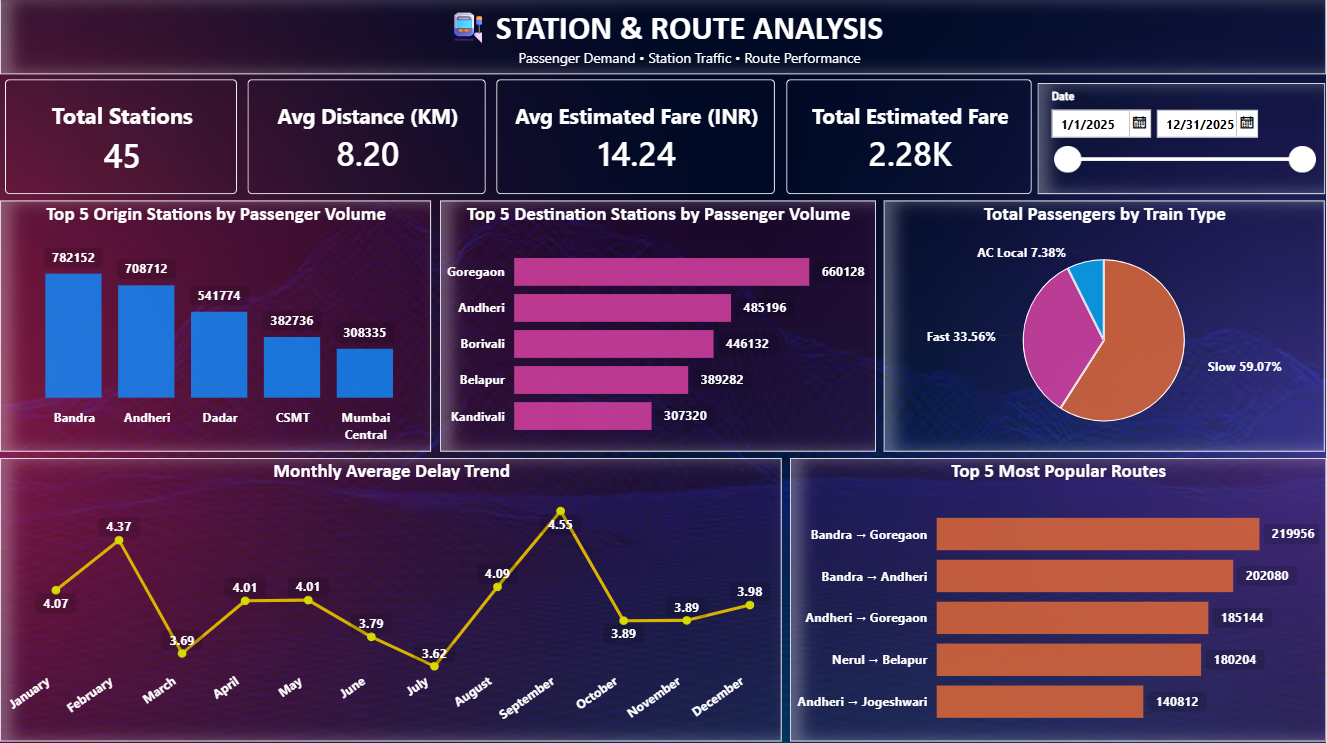

What the dashboard file says about the page in this screenshot:
{"tool":"powerbi","page":{"name":"Station & Route Analysis","canvas":[1280,720],"ordinal":1},"visuals":[{"type":"textbox","box":[0,0,1280.3,73.4],"z":0},{"type":"columnChart","title":"Top 5 Origin Stations by Passenger Volume","fields":{"Category":["Dim_Origin_Station.Origin_Station"],"Y":["fact train operations.Total Passengers"]},"box":[0,195.7,415.8,242.1],"z":1000},{"type":"barChart","title":"Top 5 Destination Stations by Passenger Volume","fields":{"Category":["Dim_Destination_Station.Destination_Station"],"Y":["fact train operations.Total Passengers"]},"box":[424.3,195.7,420.7,242.1],"z":2000},{"type":"barChart","title":"Top 5 Most Popular Routes","fields":{"Category":["fact train operations.Route"],"Y":["fact train operations.Total Passengers"]},"box":[763,443.9,517.3,273.9],"z":3000},{"type":"lineChart","title":"Monthly Average Delay Trend","fields":{"Category":["Dim_Date.Date.Variation.Date Hierarchy.Month"],"Y":["fact train operations.Avg Delay (min)"]},"box":[0,443.9,754.5,273.9],"z":4000},{"type":"pieChart","title":"Total Passengers by Train Type","fields":{"Category":["Dim_Train.Train_Type"],"Y":["fact train operations.Total Passengers"]},"box":[853.5,195.7,425.5,242.1],"z":5000},{"type":"cardVisual","title":"Total Stations","fields":{"Data":["Dim_Date.total station"]},"box":[0,73.6,234,121.9],"z":6000},{"type":"cardVisual","title":"Avg Route Distance","fields":{"Data":["Dim_Date.Average Distance (KM)"]},"box":[234,73.6,240.1,121.9],"z":7000},{"type":"cardVisual","title":"Avg Estimated Fare","fields":{"Data":["Dim_Date.Average Fare (INR)"]},"box":[474.1,73.6,279.9,121.9],"z":8000},{"type":"cardVisual","title":"Avg Passenger/Trip","fields":{"Data":["Dim_Date.Average Passengers per Trip"]},"box":[754,73.6,247.3,121.9],"z":9000},{"type":"slicer","fields":{"Values":["Dim_Date.Date"]},"box":[1001.3,82,277.5,107.4],"z":10000}]}

Visuals, with their boxes in screenshot pixels (x1, y1, x2, y2), scaled from the page's 1280x720 canvas onto the 1327x743 screenshot:
textbox: (0,0,1326,76)
"Top 5 Origin Stations by Passenger Volume" columnChart: (0,202,431,452)
"Top 5 Destination Stations by Passenger Volume" barChart: (440,202,876,452)
"Top 5 Most Popular Routes" barChart: (791,458,1326,741)
"Monthly Average Delay Trend" lineChart: (0,458,782,741)
"Total Passengers by Train Type" pieChart: (885,202,1326,452)
"Total Stations" cardVisual: (0,76,243,202)
"Avg Route Distance" cardVisual: (243,76,492,202)
"Avg Estimated Fare" cardVisual: (492,76,782,202)
"Avg Passenger/Trip" cardVisual: (782,76,1038,202)
slicer - Dim_Date.Date: (1038,85,1326,195)
